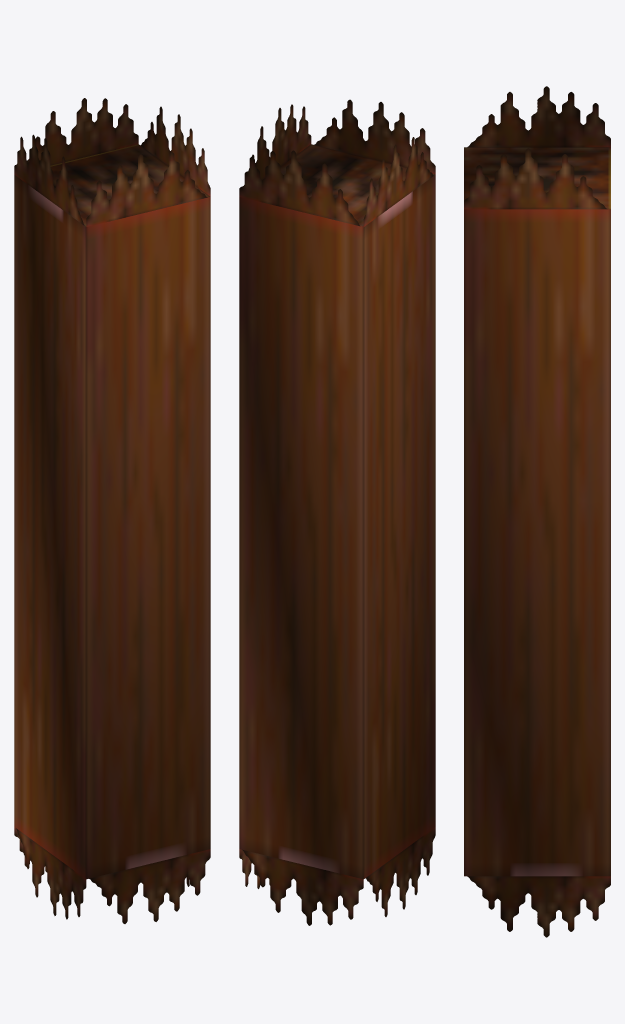
3 views of the same model, side by side, from view 1: azimuth 30°, elevation 25°; view 2: azimuth 150°, elevation 25°; view 3: azimuth 270°, elevation 25° (orthographic). The views are drawn at different scales.
Parts seen in each view (by area): view 1: T1L7M002_13; view 2: T1L7M002_13; view 3: T1L7M002_13.
Part boxes in pixels (x1,y1,x2,y2): T1L7M002_13: (14, 98, 210, 923); T1L7M002_13: (239, 99, 435, 925); T1L7M002_13: (464, 86, 610, 937).
Bounding box in the file's own units: 0.3994 × 2.8 × 0.3994.
